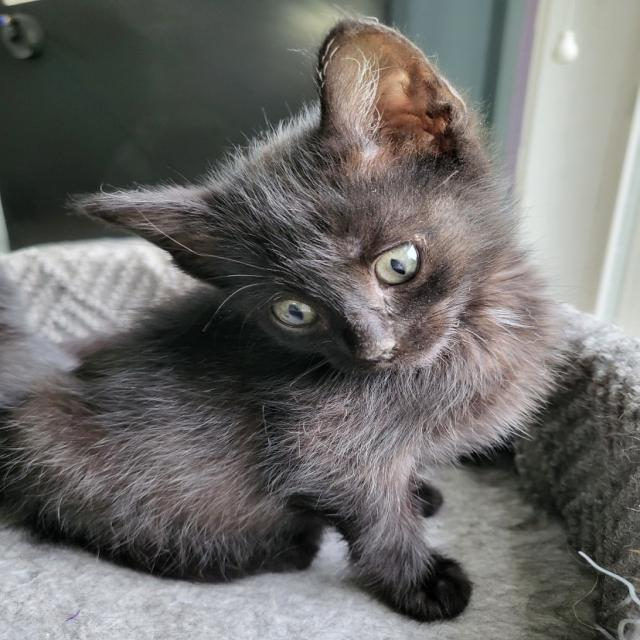bombay_cat: (73, 13, 561, 393)
